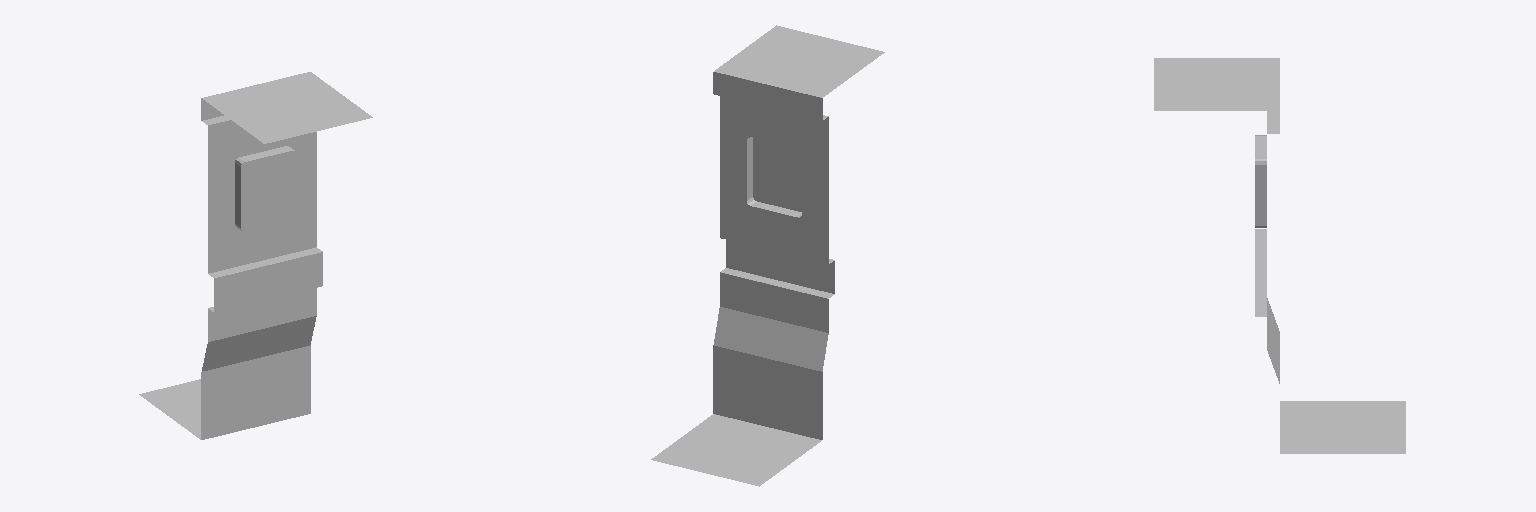
Rendered from structure-window.obj.
3 views of the same model, side by side, from view 1: azimuth 30°, elevation 25°; view 2: azimuth 150°, elevation 25°; view 3: azimuth 270°, elevation 25° (orthographic).
Parts seen in each view (by area): view 1: structure-window; view 2: structure-window; view 3: structure-window.
Part boxes in pixels (x1,y1,x2,y2): structure-window: (139,72,372,439); structure-window: (651,25,884,486); structure-window: (1154,58,1405,453).
Size of the model in its own units: 1 by 3 by 2.